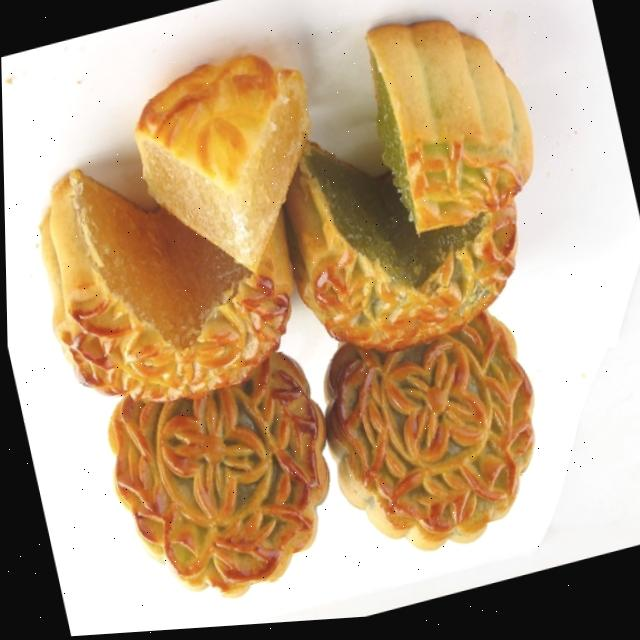蛋糕甜品: (11, 0, 621, 635)
